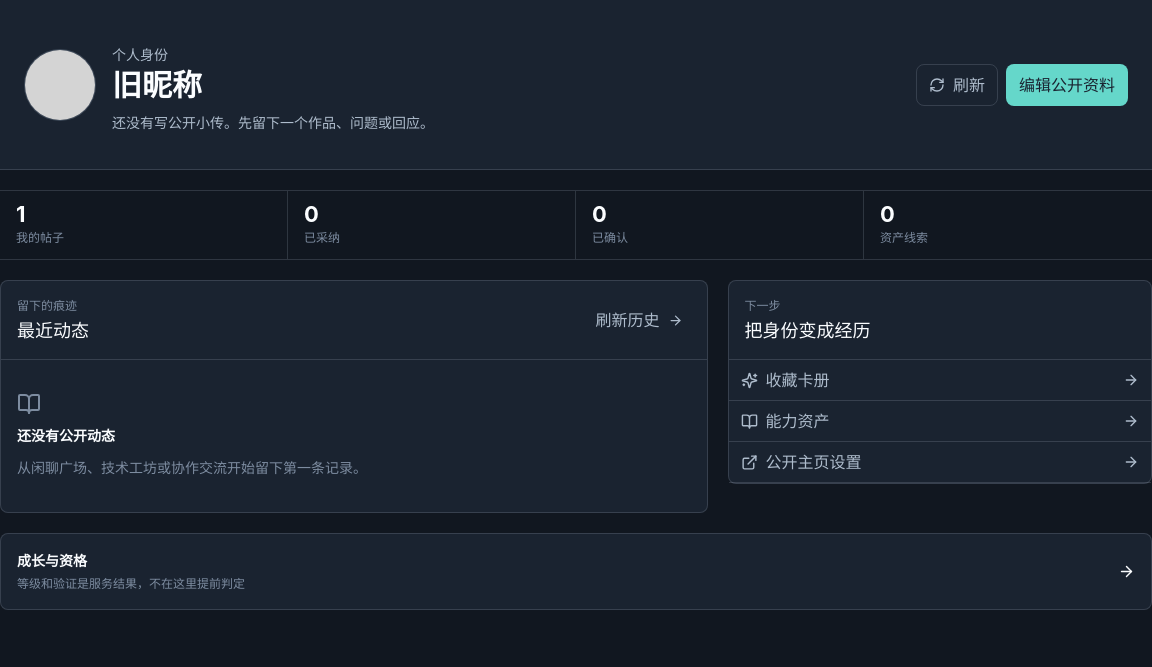
Test: ZeroCityPersonalHub › offers a card-specific retry without claiming an empty collection on error
Click the button with class "city-personal-primary" at (1067, 84), box left=1006, top=64, right=1128, bottom=106
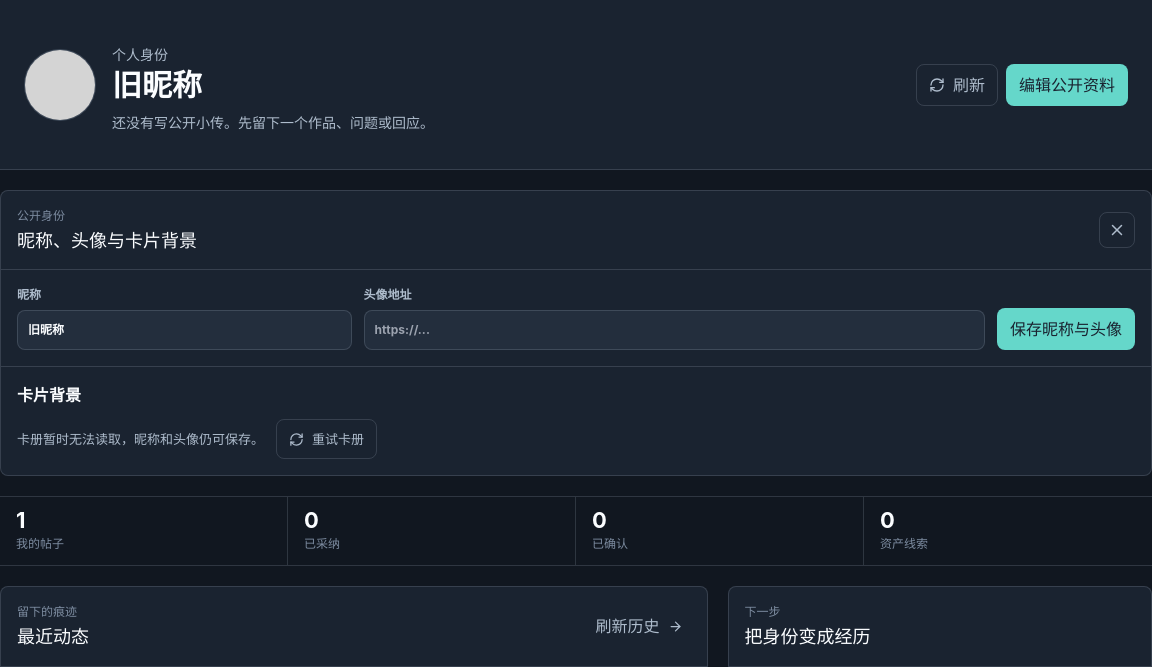
expect the text "卡册中暂无可用收藏卡" is not shown: met
expect the message with class "city-personal-card-error" shows "卡册暂时无法读取": met, box left=17, top=430, right=264, bottom=446
Click the button "重试卡册" at (326, 439), box left=276, top=419, right=377, bottom=459
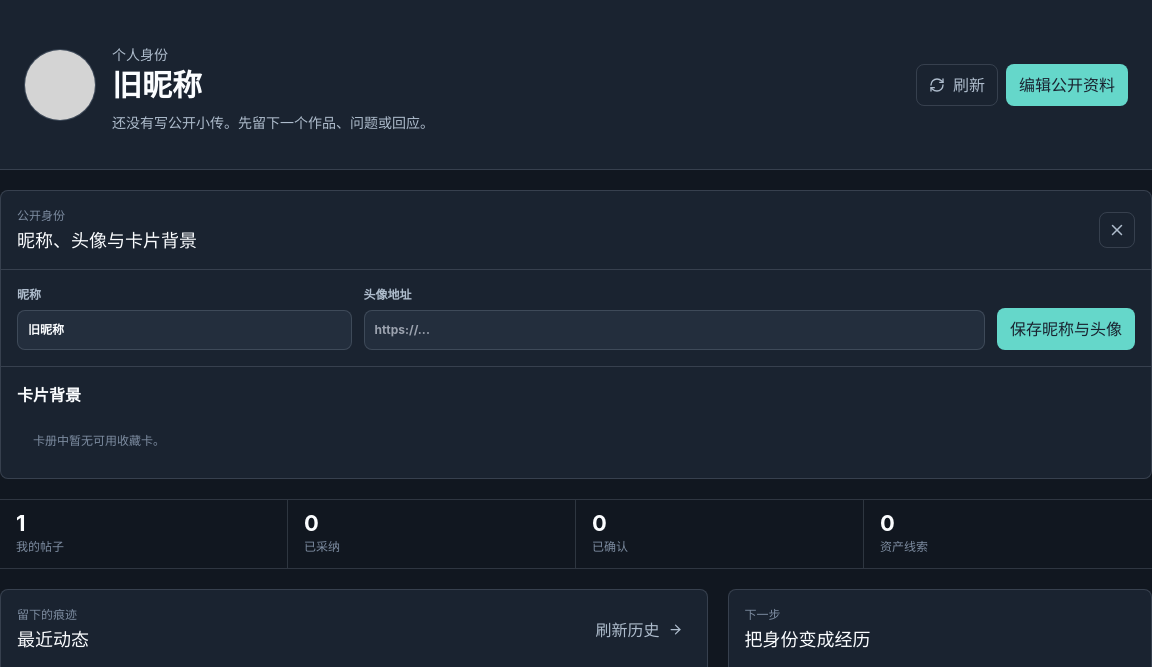
expect the text "卡册中暂无可用收藏卡" is shown: met, box left=33, top=433, right=165, bottom=448
